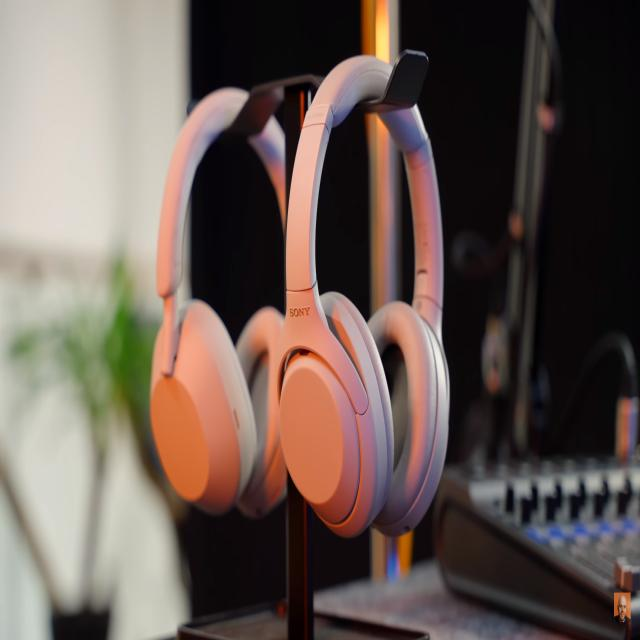Headphone: (277, 49, 451, 544), (148, 79, 296, 521)
